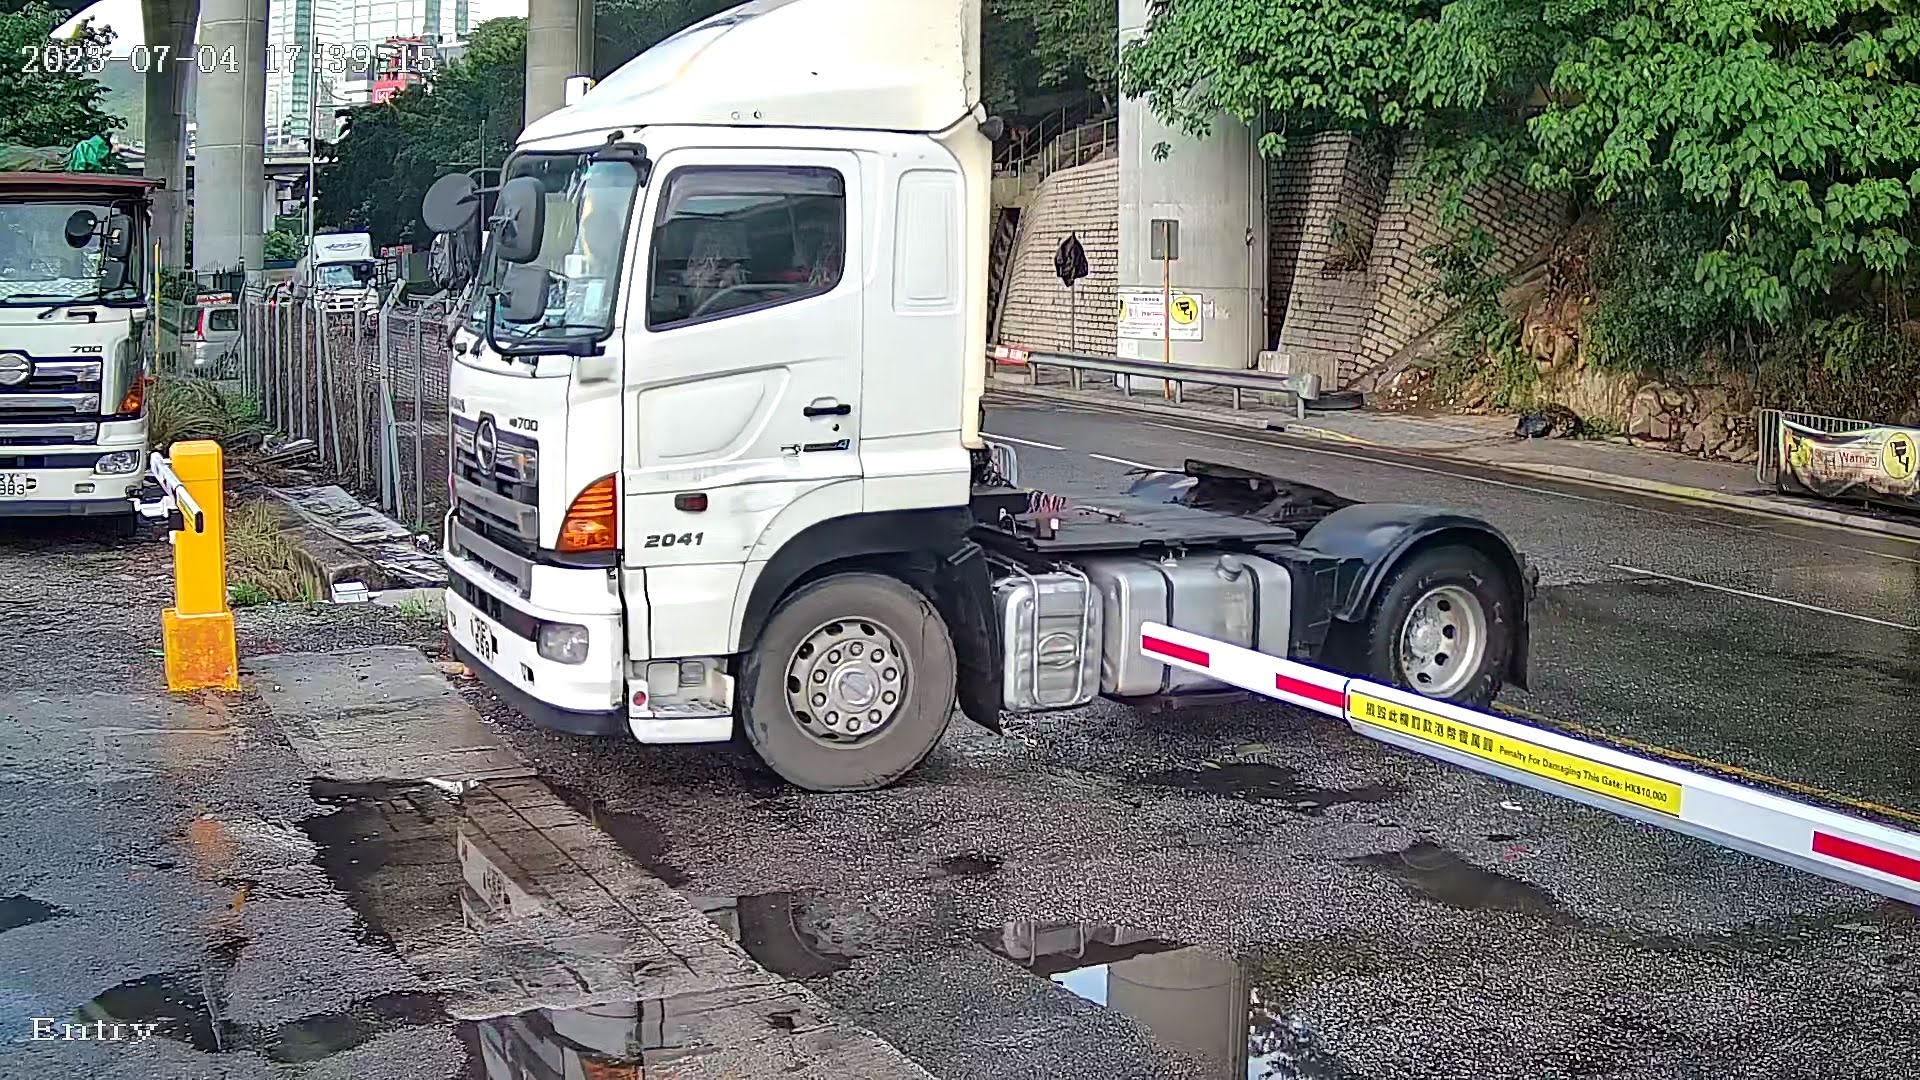tractor: (419, 1, 1532, 807)
